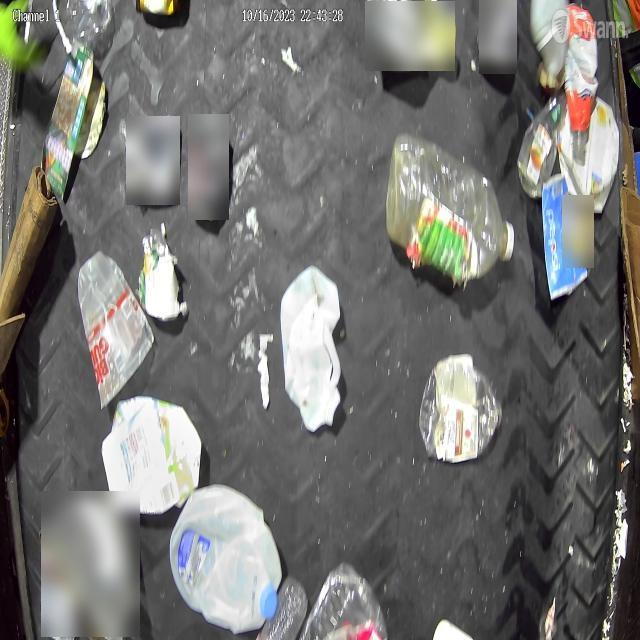milk_jug: (170, 482, 282, 634), (280, 264, 341, 432)
non_white_jug: (101, 395, 202, 517), (558, 94, 620, 214)
plastic_bottle: (385, 136, 516, 284), (418, 352, 502, 462), (516, 94, 566, 199)
